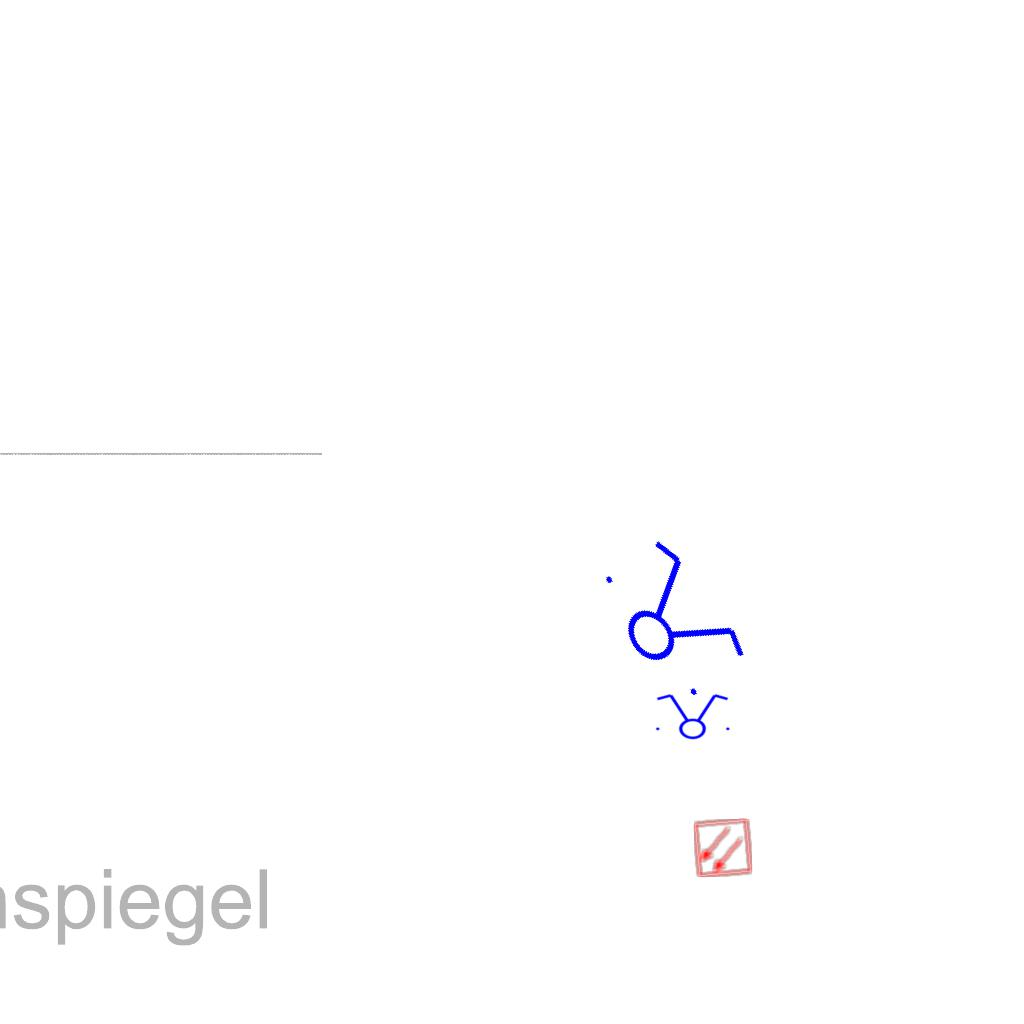RMO_Rauchmelder_optischer: (692, 817, 754, 879)
Serienschalter: (582, 523, 760, 715), (650, 692, 734, 740)
